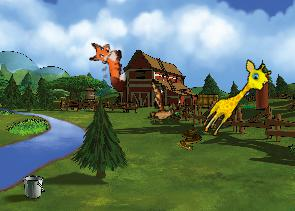eagle: (131, 78, 190, 135)
fox: (87, 39, 128, 94)
giraffe: (198, 54, 275, 145)
